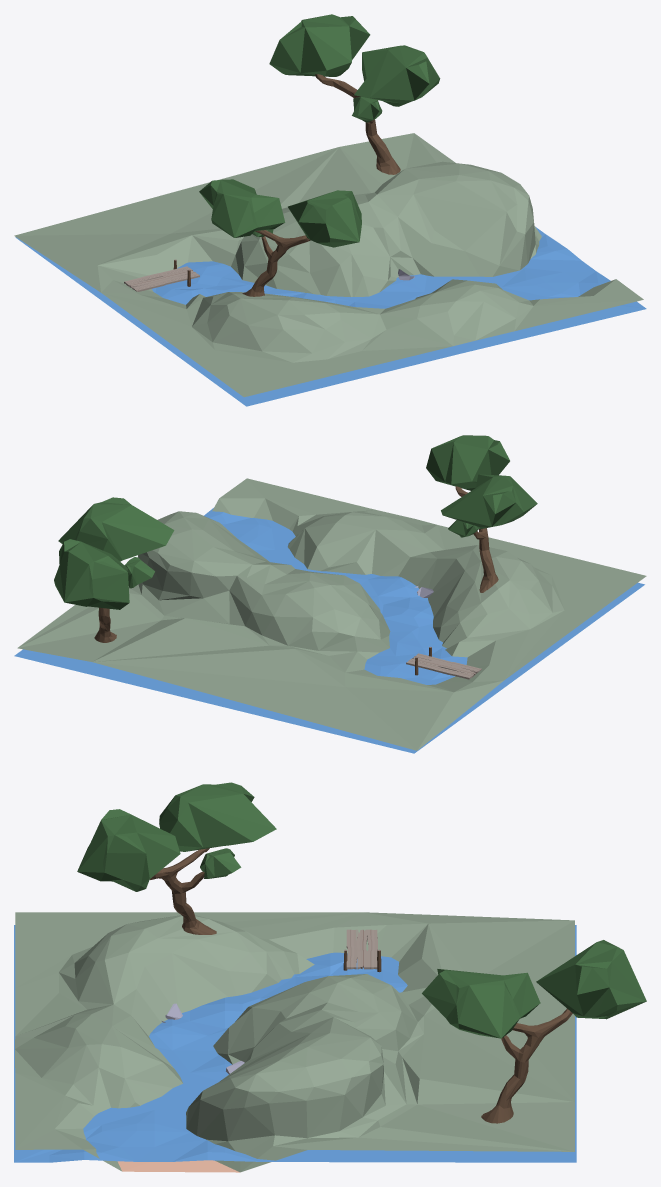
Rendered from low_poly_river.glb.
3 renders of one model, top to bottom at view 1: azimuth 30°, elevation 25°; view 2: azimuth 150°, elevation 25°; view 3: azimuth 270°, elevation 25°, orthographic. The views are drawn at different scales.
Parts seen in each view (by area): view 1: pPlane1_phong1_0, pPlane2_phong3_0, pasted__sweep2_pasted__phong2_0, pasted__sweep3_pasted__phong2_0, pasted__sweep2_pasted__phong1_0, pasted__sweep3_pasted__phong1_0; view 2: pPlane1_phong1_0, pPlane2_phong3_0, pasted__sweep2_pasted__phong2_0, pasted__sweep3_pasted__phong2_0, pasted__sweep3_pasted__phong1_0, pasted__sweep2_pasted__phong1_0; view 3: pPlane1_phong1_0, pPlane2_phong3_0, pasted__sweep3_pasted__phong2_0, pasted__sweep2_pasted__phong2_0, pasted__sweep2_pasted__phong1_0, pasted__sweep3_pasted__phong1_0, pPlane1_phong2_0.
Part boxes in pixels (x1=…): pPlane1_phong1_0: x1=14, y1=133, x2=643, y2=397; pPlane2_phong3_0: x1=15, y1=226, x2=646, y2=406; pasted__sweep2_pasted__phong2_0: x1=269, y1=14, x2=440, y2=122; pasted__sweep3_pasted__phong2_0: x1=199, y1=179, x2=361, y2=247; pasted__sweep2_pasted__phong1_0: x1=315, y1=74, x2=400, y2=174; pasted__sweep3_pasted__phong1_0: x1=242, y1=230, x2=310, y2=296; pPlane1_phong1_0: x1=17, y1=478, x2=646, y2=750; pPlane2_phong3_0: x1=14, y1=508, x2=644, y2=753; pasted__sweep2_pasted__phong2_0: x1=54, y1=497, x2=174, y2=609; pasted__sweep3_pasted__phong2_0: x1=426, y1=435, x2=537, y2=537; pasted__sweep3_pasted__phong1_0: x1=455, y1=486, x2=498, y2=592; pasted__sweep2_pasted__phong1_0: x1=94, y1=607, x2=116, y2=642; pPlane1_phong1_0: x1=15, y1=912, x2=574, y2=1172; pPlane2_phong3_0: x1=14, y1=925, x2=576, y2=1162; pasted__sweep3_pasted__phong2_0: x1=77, y1=782, x2=276, y2=891; pasted__sweep2_pasted__phong2_0: x1=422, y1=940, x2=646, y2=1038; pasted__sweep2_pasted__phong1_0: x1=481, y1=1008, x2=572, y2=1123; pasted__sweep3_pasted__phong1_0: x1=150, y1=848, x2=216, y2=934; pPlane1_phong2_0: x1=117, y1=1160, x2=239, y2=1172.
Bounding box in the file's own units: 0.2427 × 0.0907 × 0.2716.
